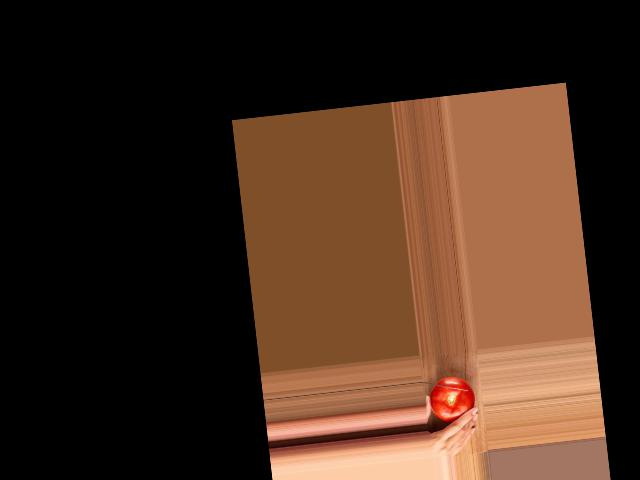tomato: (427, 375, 476, 424)
